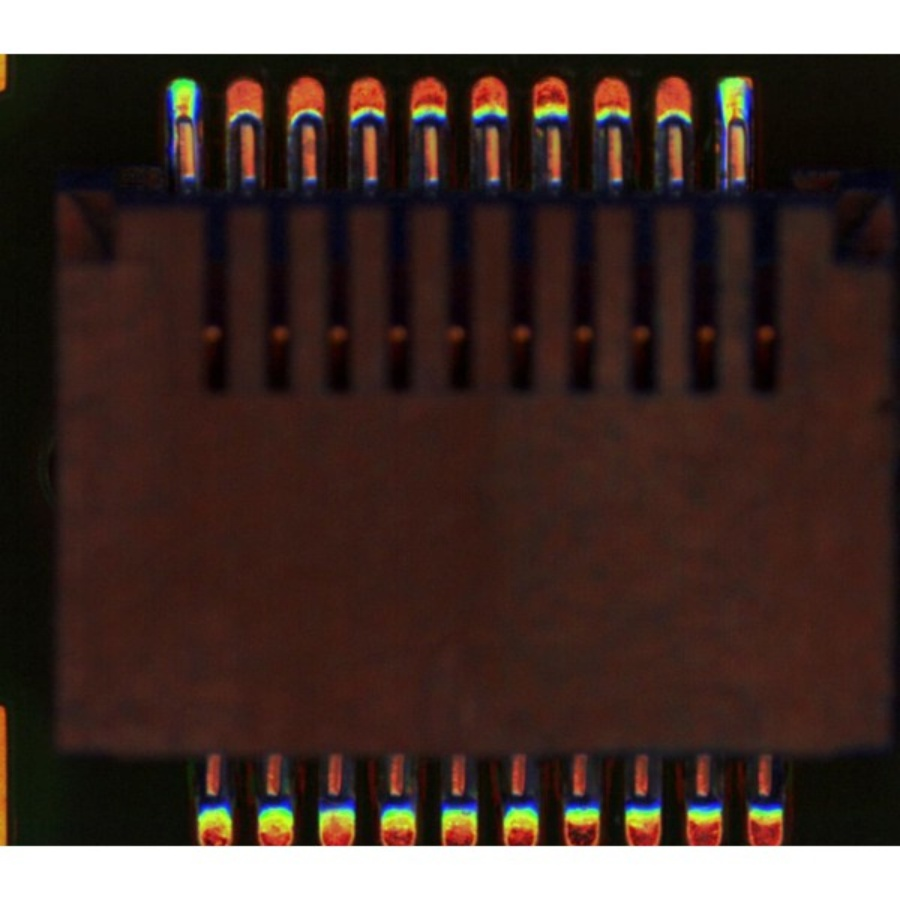Bad_qiaojiao: (718, 128, 730, 190), (171, 121, 178, 176)
